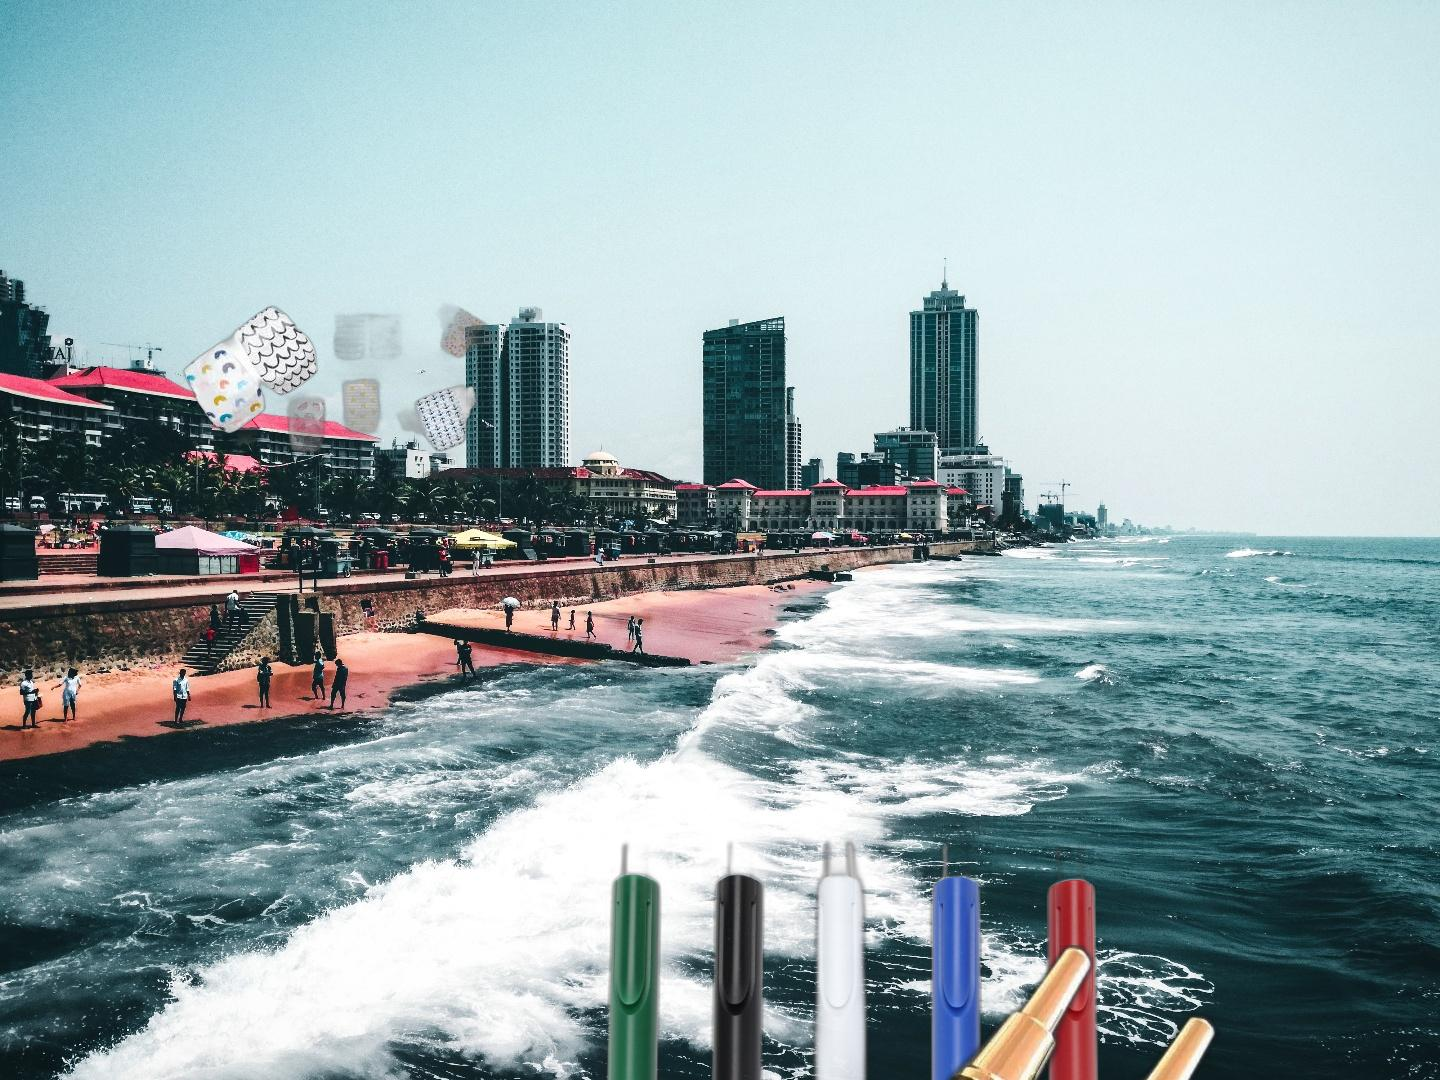penholder: (596, 835, 1164, 1080), (441, 945, 1330, 1080)
trash: (183, 299, 500, 458)
